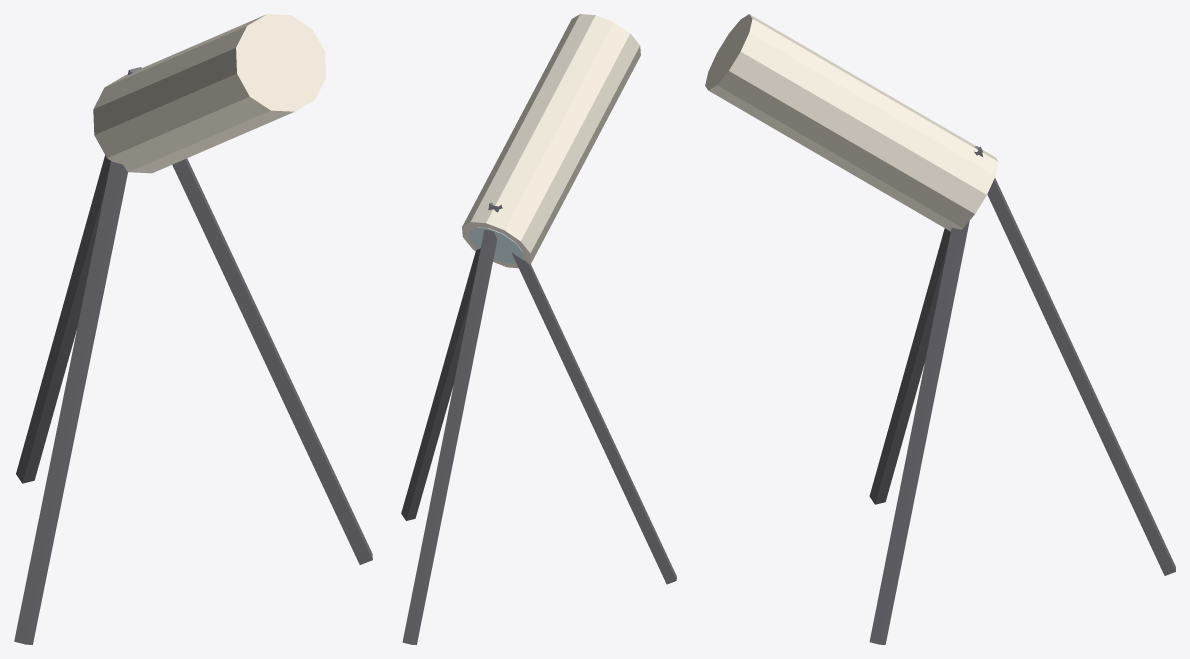
Rendered from cozy-home-interiors-telescope-f8b2c2fe.glb.
3 views of the same model, side by side, from view 1: azimuth 30°, elevation 25°; view 2: azimuth 150°, elevation 25°; view 3: azimuth 270°, elevation 25° (orthographic). The views are drawn at different scales.
Parts seen in each view (by area): view 1: telescope; view 2: telescope; view 3: telescope.
Boxes of the visible parts, x1,y1,x2,y2 form: telescope: [14, 14, 372, 644]; telescope: [401, 14, 676, 644]; telescope: [705, 14, 1175, 644].
Bounding box in the file's own units: 0.7324 × 1.25 × 0.965.
